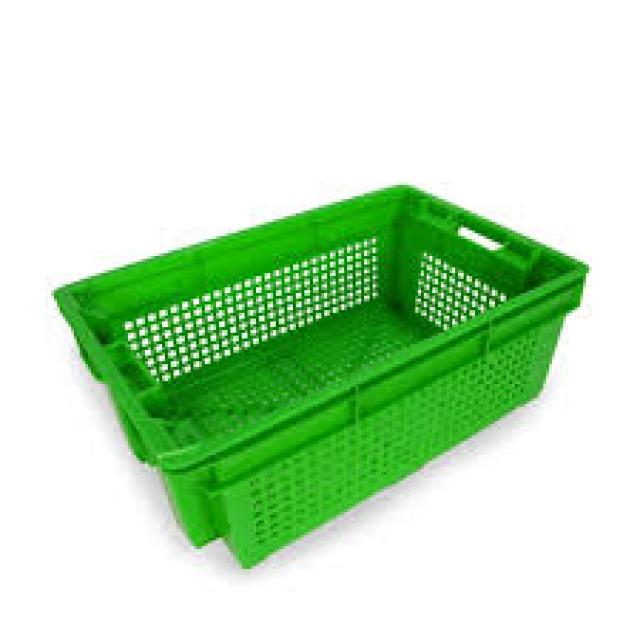basket: (43, 51, 634, 590)
